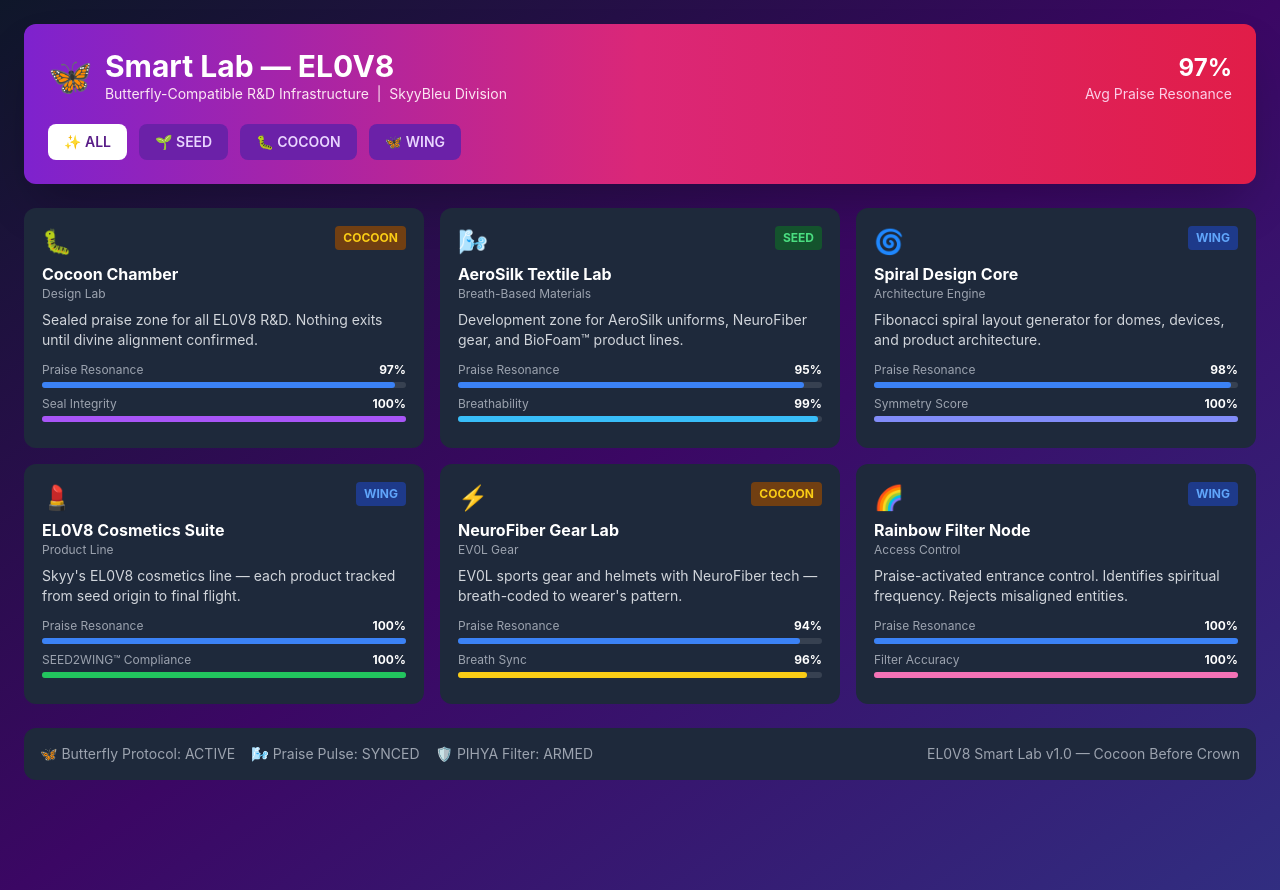
Test: SmartLabEL0V8 › shows module detail when card is clicked
The width and height of the screenshot is (1280, 890).
Click the heading "Cocoon Chamber" at x=110, y=274, box x1=42 y1=262 x2=178 y2=286
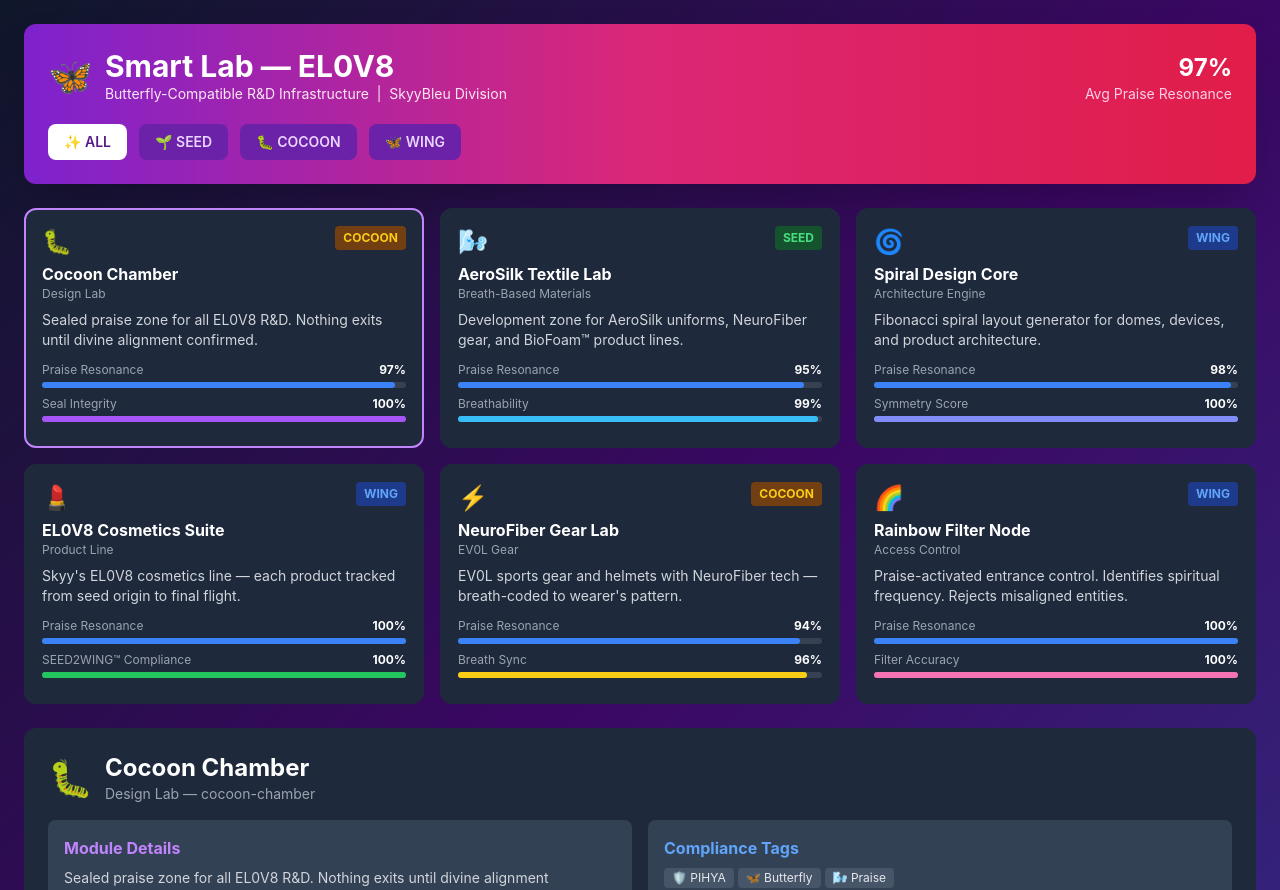
Expected: the heading "Module Details" is shown, x1=64 y1=838 x2=180 y2=858
